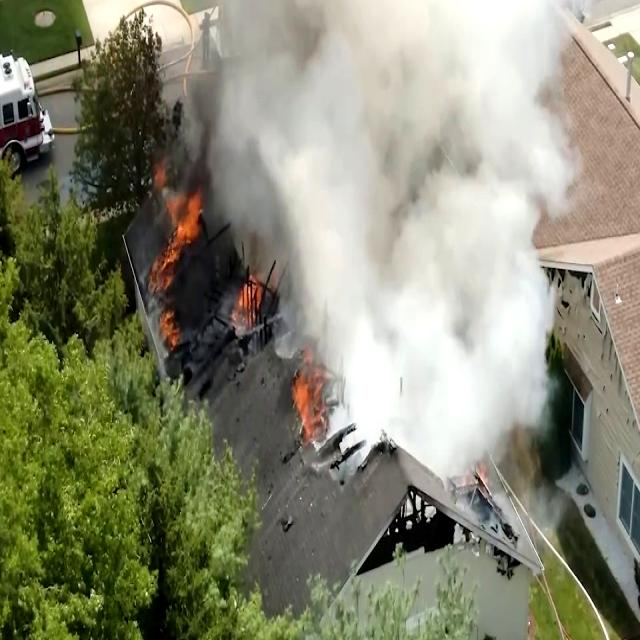smoke: (324, 12, 511, 428), (270, 0, 539, 109)
